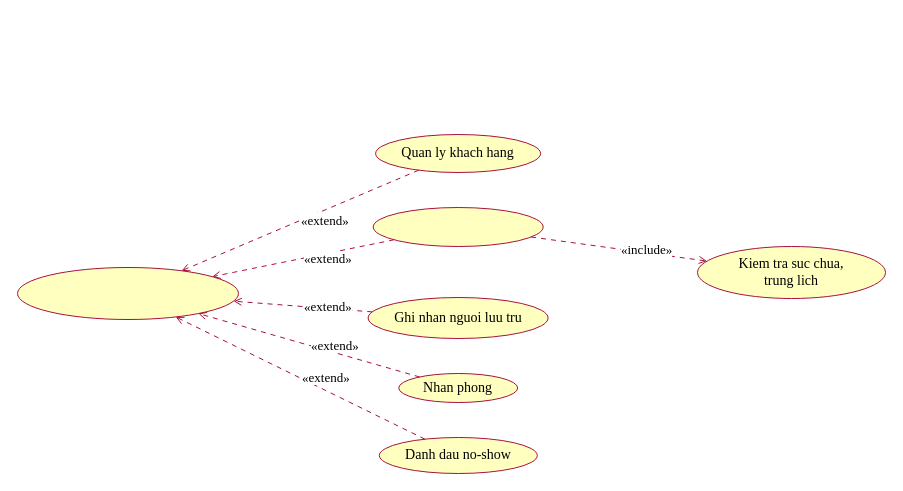
Some shapes in this 903 by 491 pixel diagram are drawn without their labels. Here are the shapes that lost their labels. From the top down, the centre of each, then its label:
pixel 457 226: Lap phieu dat phong
pixel 127 293: Dat - nhan phong
